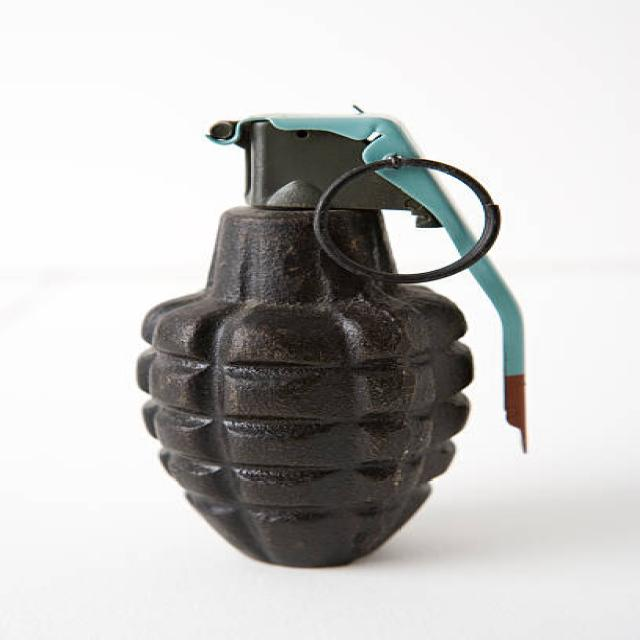grenade: (134, 105, 543, 572)
